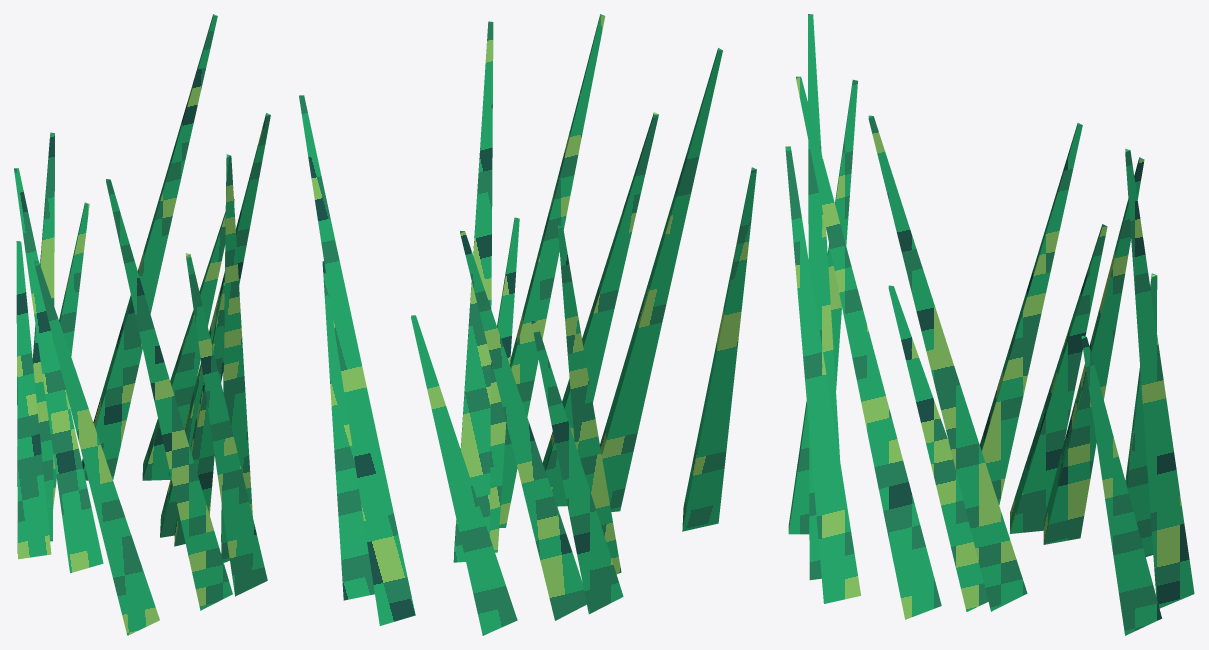
File: a01_erva_alta.glb
3 renders of one model, left to right at view 1: azimuth 30°, elevation 25°; view 2: azimuth 150°, elevation 25°; view 3: azimuth 270°, elevation 25°, orthographic. The views are drawn at different scales.
Parts seen in each view (by area): view 1: a01_erva_alta; view 2: a01_erva_alta; view 3: a01_erva_alta.
Boxes of the visible parts, x1,y1,x2,y2 form: a01_erva_alta: (14,14,270,635); a01_erva_alta: (299,14,756,635); a01_erva_alta: (785,14,1194,635).
Bounding box in the file's own units: 1.1 × 1.57 × 1.15.
1 material, 1 textured.
